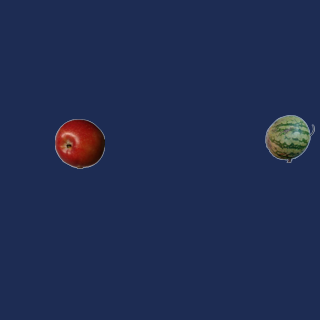Apple Braeburn: (54, 118, 104, 168)
Watermelon: (264, 113, 314, 163)
